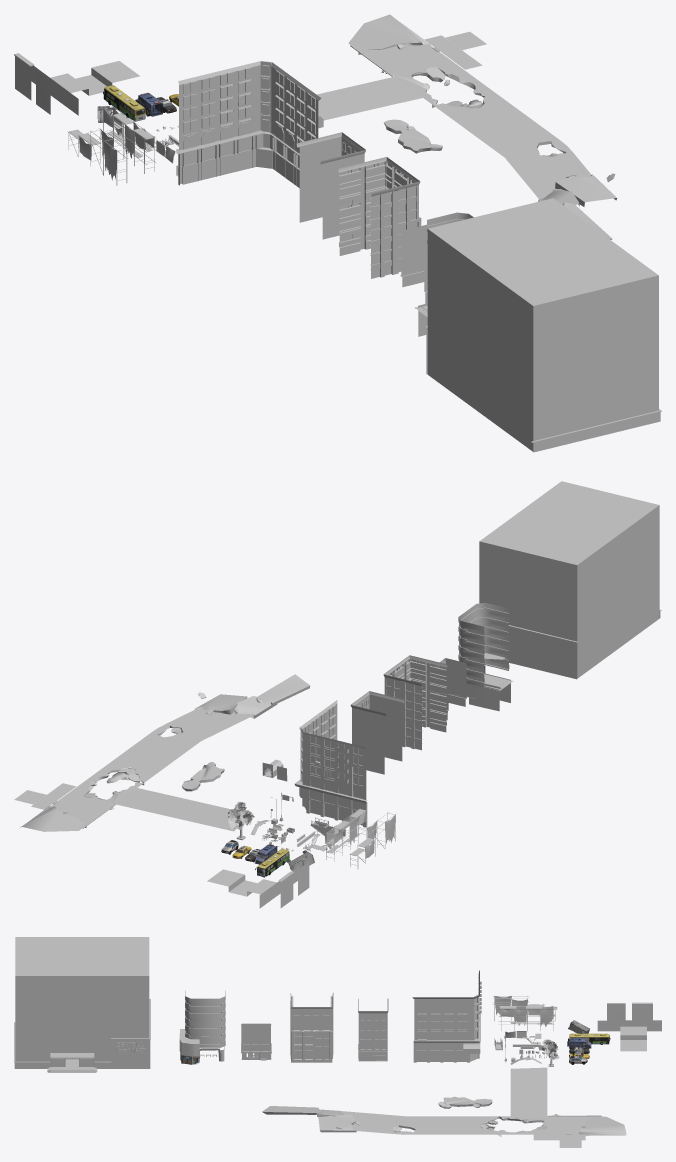
3 views of the same model, one above another, from view 1: azimuth 30°, elevation 25°; view 2: azimuth 150°, elevation 25°; view 3: azimuth 270°, elevation 25° (orthographic). The views are drawn at different scales.
Parts seen in each view (by area): view 1: Asset_BuildingH, Asset_BuildingA, Asset_Road_014, Asset_BuildingD, Asset_BuildingB, Asset_Road_021, Asset_Road_013, Asset_BuildingE, Asset_Scaffold, Asset_Subway_001, Asset_Scaffold2, Asset_Road_027 (+5 smaller); view 2: Asset_BuildingH, Asset_BuildingA, Asset_Road_014, Asset_BuildingF, Asset_BuildingD, Asset_BuildingB, Asset_Road_021, Asset_Scaffold, Asset_Road_013, Asset_BuildingE, Asset_Subway_001, Asset_Scaffold2 (+1 smaller); view 3: Asset_BuildingH, Asset_BuildingA, Asset_Road_014, Asset_BuildingF, Asset_BuildingD, Asset_Road_021, Asset_BuildingB, Asset_BuildingE, Asset_Scaffold, Asset_Road_013, Asset_Subway_001, Asset_Wall_003 (+7 smaller).
Boxes of the visible parts, x1,y1,x2,y2 form: Asset_BuildingH: (425,198,661,452); Asset_BuildingA: (176,61,321,187); Asset_Road_014: (351,44,591,199); Asset_BuildingD: (338,157,421,278); Asset_BuildingB: (296,132,365,239); Asset_Road_021: (297,77,422,122); Asset_Road_013: (348,14,430,54); Asset_BuildingE: (400,224,427,303); Asset_Scaffold: (103,106,156,173); Asset_Subway_001: (50,61,139,95); Asset_Scaffold2: (68,128,127,185); Asset_Road_027: (555,174,616,206); Asset_BuildingH: (479,481,661,679); Asset_BuildingA: (294,700,367,827); Asset_Road_014: (50,709,253,828); Asset_BuildingF: (458,603,513,711); Asset_BuildingD: (383,655,447,750); Asset_BuildingB: (350,691,404,774); Asset_Road_021: (115,788,236,831); Asset_Scaffold: (326,808,367,861); Asset_Road_013: (20,806,86,831); Asset_BuildingE: (439,658,466,720); Asset_Subway_001: (207,869,276,896); Asset_Scaffold2: (349,812,396,868); Asset_BuildingH: (14,937,150,1072); Asset_BuildingA: (412,970,481,1062); Asset_Road_014: (341,1111,602,1134); Asset_BuildingF: (179,990,225,1064); Asset_BuildingD: (290,993,333,1062); Asset_Road_021: (510,1067,547,1116); Asset_BuildingB: (358,998,388,1061); Asset_BuildingE: (241,1023,271,1060); Asset_Scaffold: (498,1006,555,1030); Asset_Road_013: (578,1116,626,1135); Asset_Subway_001: (620,1026,646,1051); Asset_Wall_003: (597,1020,661,1031).
Size of the model in its own units: 109 by 39.16 by 228.
